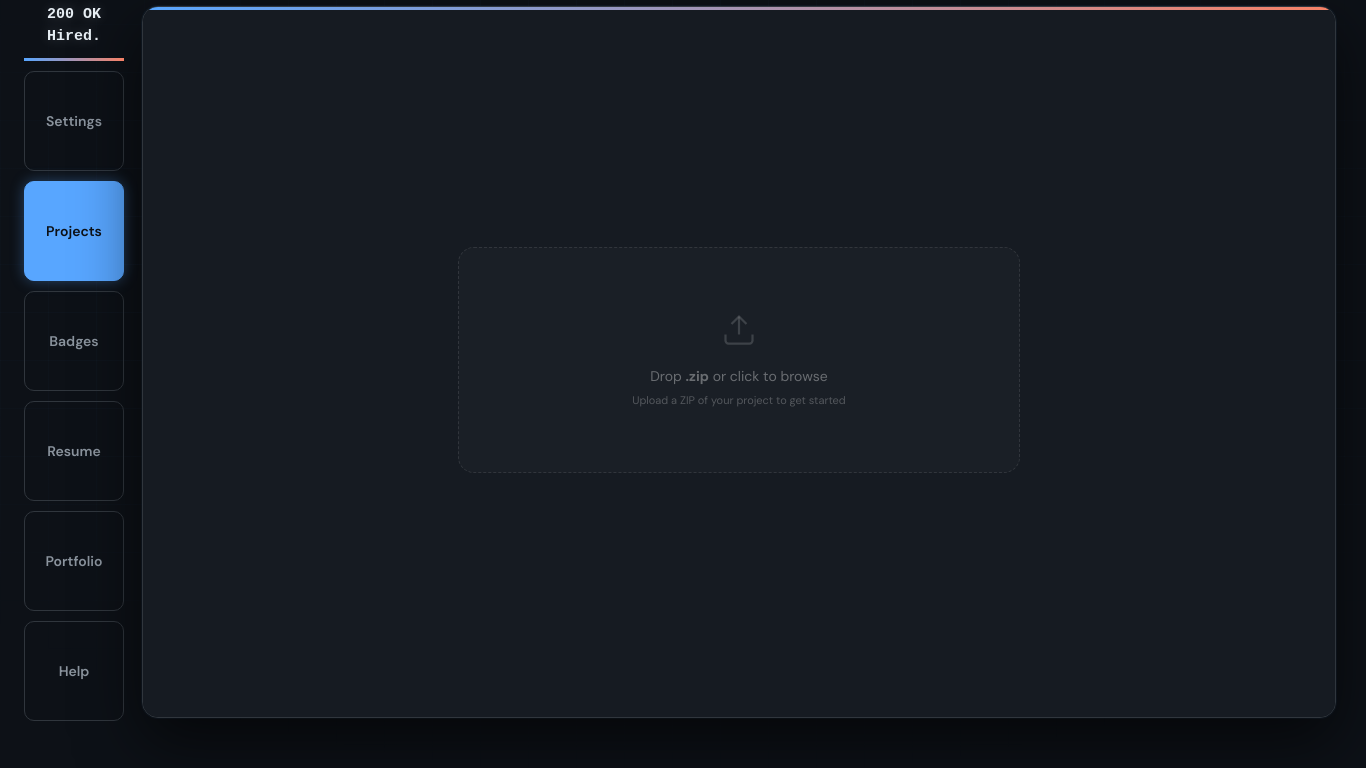
Test: App badges heatmap › expands a skill tile to show projects where that skill is used
(page scrolled)
What coordinates should you click on to do the following:
click the button "Badges"
I would click on:
 (74, 341)
Its box is x1=24 y1=291 x2=124 y2=391.
(page scrolled)
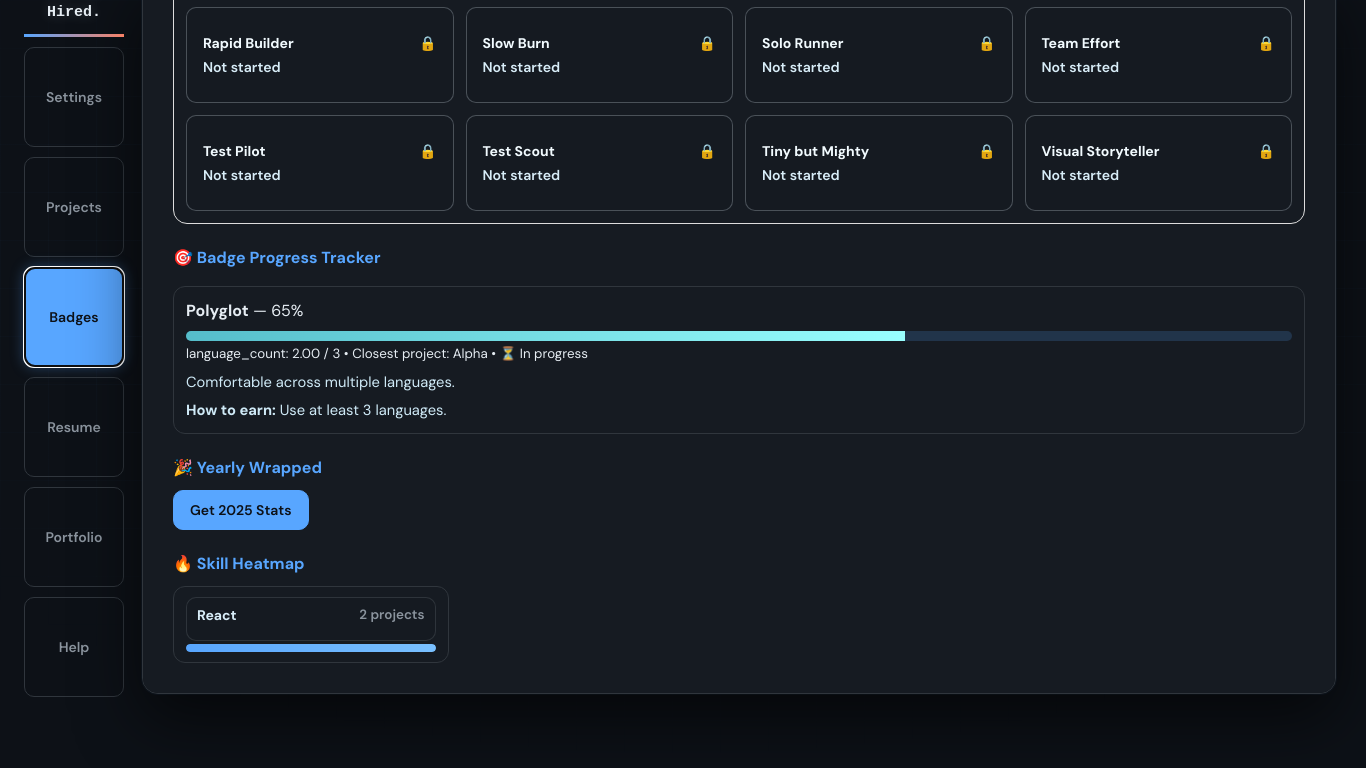
What coordinates should you click on to do the following:
click the button "React 2 projects"
I would click on:
 (311, 619)
Its box is x1=186 y1=597 x2=436 y2=641.
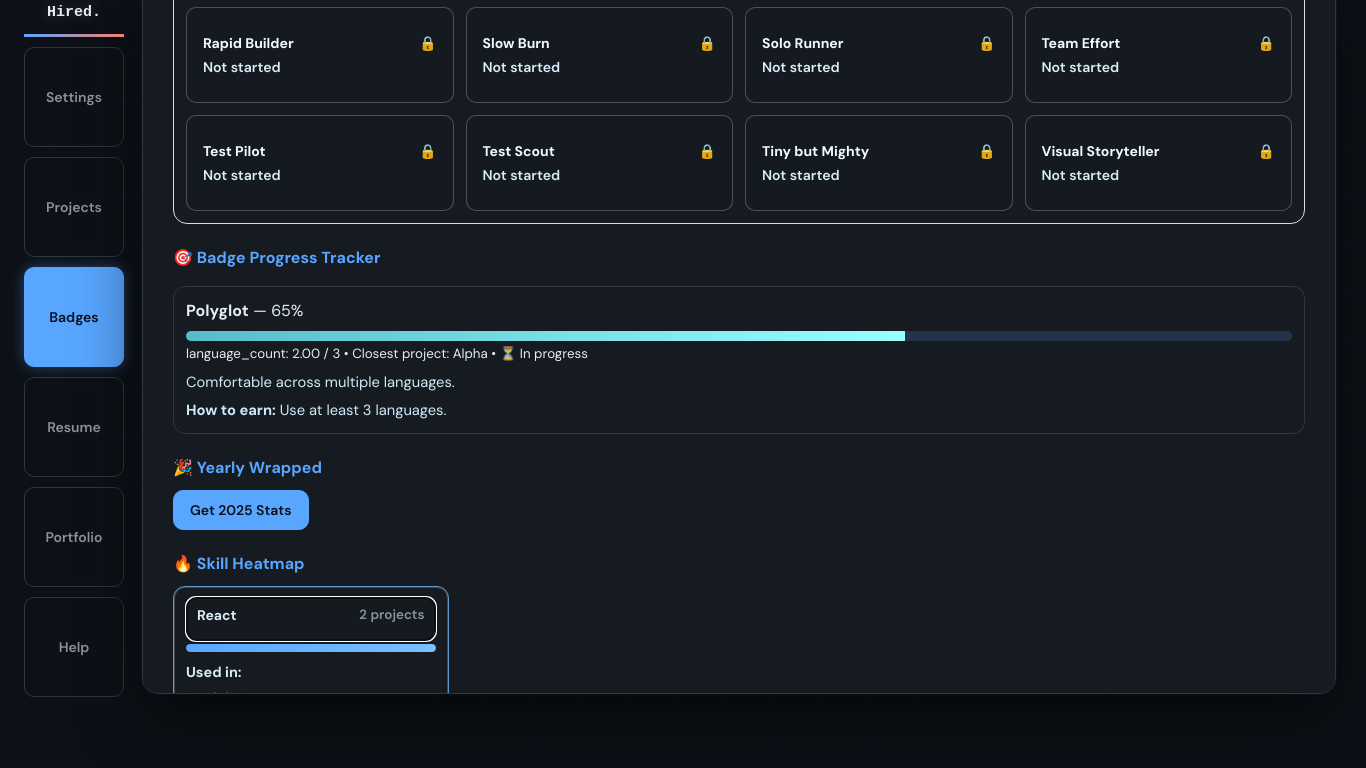
Result: the text "Used in:" is shown at x1=186 y1=663 x2=242 y2=681
